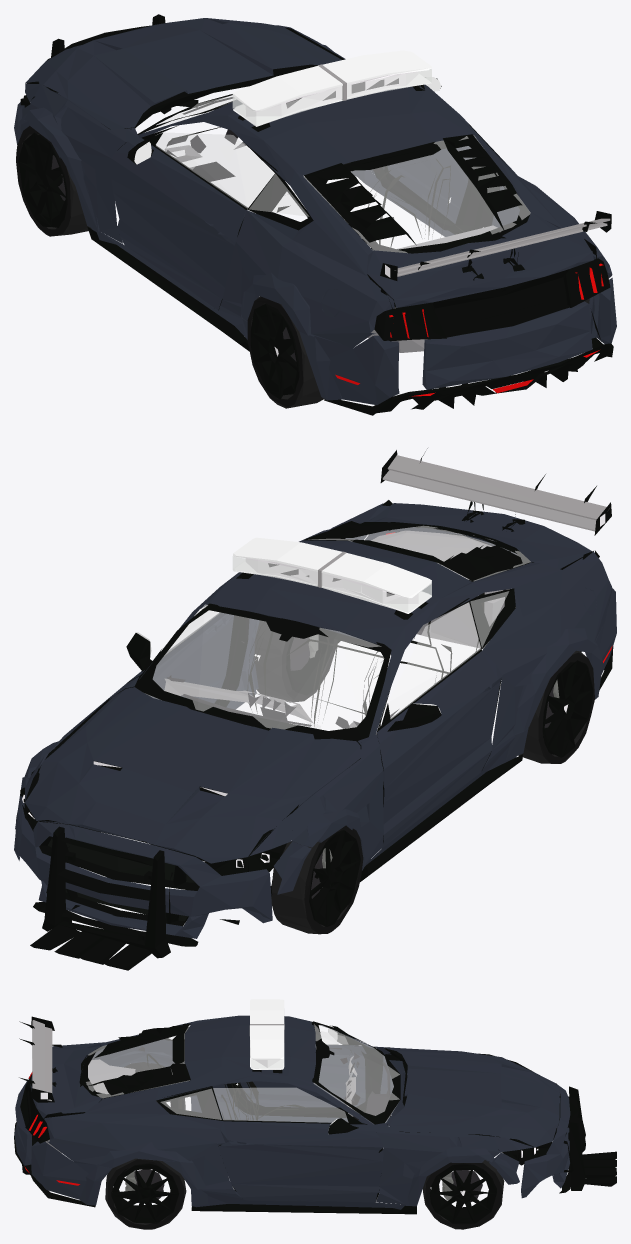
The model's file is mustang-low.glb.
3 views of the same model, one above another, from view 1: azimuth 30°, elevation 25°; view 2: azimuth 150°, elevation 25°; view 3: azimuth 270°, elevation 25° (orthographic). The views are drawn at different scales.
Visible parts, largest first — view 1: Object_13, Object_6, Object_17, Object_3, Object_32, Object_9, Object_10; view 2: Object_13, Object_6, Object_17, Object_3, Object_32, Object_9; view 3: Object_13, Object_6, Object_3, Object_17, Object_32, Object_9.
Part boxes in pixels (bbox=[...]): Object_13: bbox=[14, 14, 616, 415]; Object_6: bbox=[146, 69, 530, 277]; Object_17: bbox=[134, 50, 610, 276]; Object_3: bbox=[16, 97, 599, 408]; Object_32: bbox=[164, 142, 497, 352]; Object_9: bbox=[167, 127, 464, 248]; Object_10: bbox=[286, 78, 603, 338]; Object_13: bbox=[14, 448, 616, 970]; Object_6: bbox=[146, 514, 605, 730]; Object_17: bbox=[137, 455, 609, 887]; Object_3: bbox=[15, 589, 612, 934]; Object_32: bbox=[164, 530, 515, 734]; Object_9: bbox=[47, 579, 484, 921]; Object_13: bbox=[14, 1015, 616, 1223]; Object_6: bbox=[40, 1024, 399, 1122]; Object_3: bbox=[24, 1046, 504, 1229]; Object_17: bbox=[32, 999, 453, 1200]; Object_32: bbox=[45, 1056, 357, 1153]; Object_9: bbox=[146, 1050, 560, 1120].
Size of the model in its own units: 2.35 by 1.68 by 5.81.
7 materials, 7 textured.
